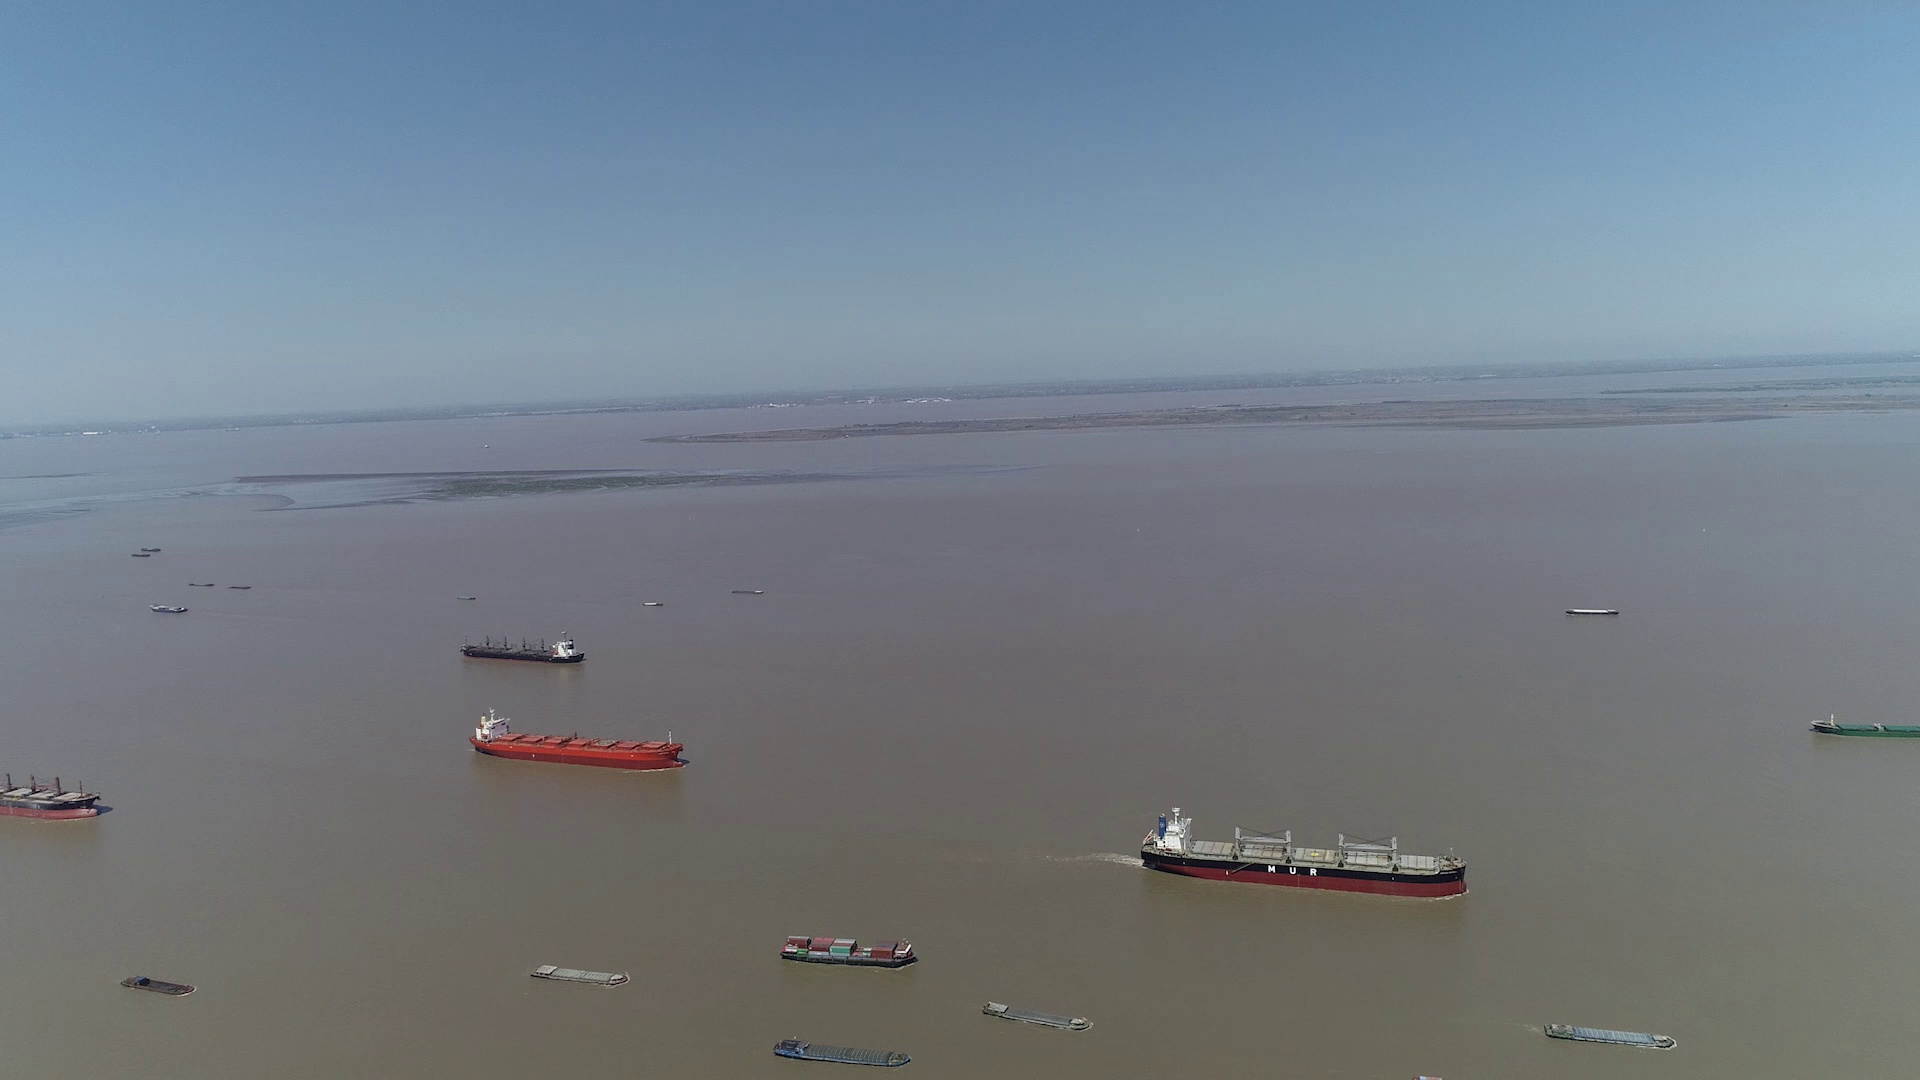ship: (1138, 808, 1470, 898), (471, 708, 683, 770), (3, 756, 105, 820), (779, 934, 916, 969), (773, 1038, 913, 1069), (464, 632, 584, 663), (1544, 1023, 1677, 1050), (982, 1002, 1091, 1033), (1809, 716, 1919, 738), (527, 964, 628, 986), (121, 975, 196, 998), (1567, 608, 1617, 617), (150, 605, 190, 613)
